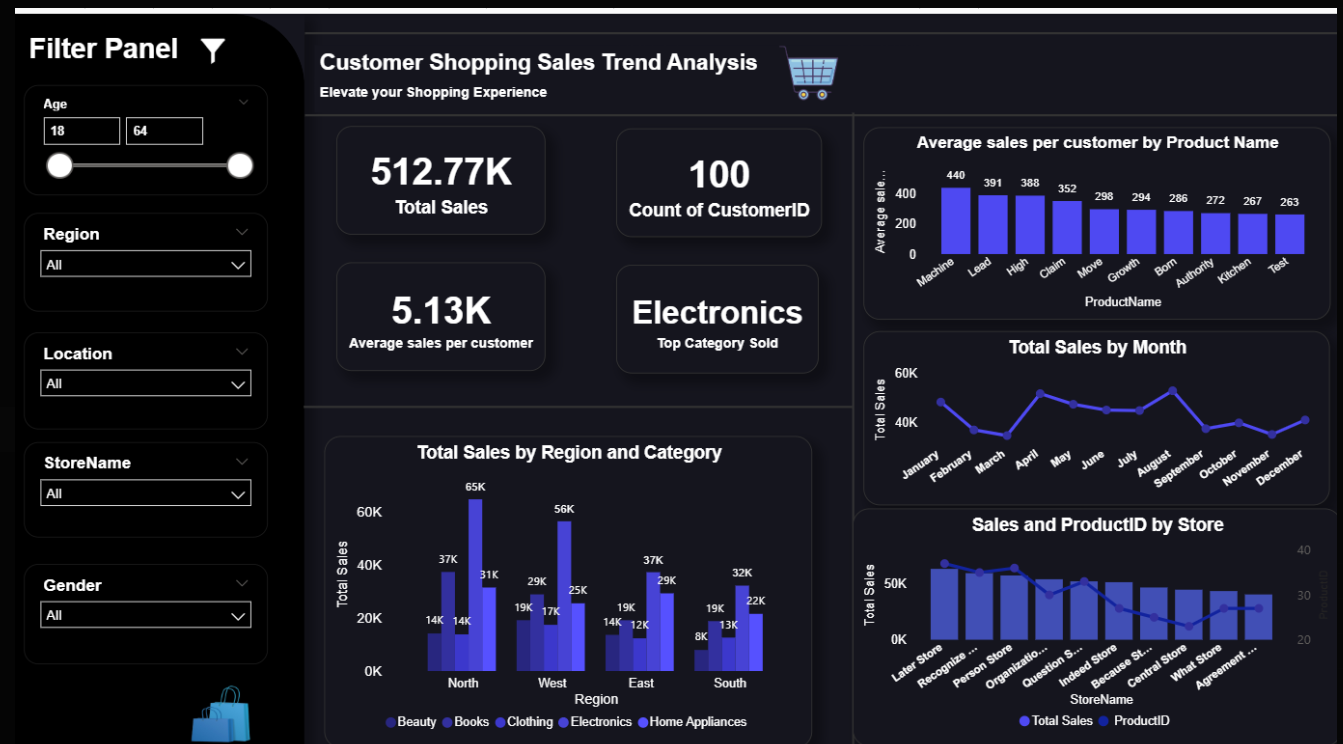

What the dashboard file says about the page in this screenshot:
{"tool":"powerbi","page":{"name":"Customer Shopping Sales Trend Analysis 1","canvas":[1280,720],"ordinal":0},"visuals":[{"type":"shape","box":[0,0,281.1,720],"z":0},{"type":"textbox","box":[10,13.8,208.8,47.5],"z":1000},{"type":"image","box":[166.2,13.8,52.5,47.5],"z":2000},{"type":"shape","box":[281.2,0,998.8,37.5],"z":3000},{"type":"shape","box":[281.2,78.8,998.8,37.5],"z":4000},{"type":"textbox","box":[291,30.8,582.1,47.4],"z":5000},{"type":"textbox","box":[291,60.3,276.9,34.6],"z":6000},{"type":"image","box":[690.3,11.3,160.2,97.8],"z":7000},{"type":"shape","box":[799.5,95,19.8,622.3],"z":8000},{"type":"shape","box":[280.7,360,528.7,36.9],"z":9000},{"type":"clusteredColumnChart","fields":{"Category":["Customers.Region"],"Series":["Products.Category"],"Y":["Sales.Total Sales"]},"box":[300.5,406.8,470.6,300.5],"z":10000},{"type":"columnChart","title":"Average sales per customer by Product Name","fields":{"Category":["Products.ProductName"],"Y":["Sales.Average sales per customer"]},"box":[819.3,109.1,450.8,185.7],"z":11000},{"type":"lineChart","fields":{"Y":["Sales.Total Sales"],"Category":["Sales.SaleDate.Variation.Date Hierarchy.Month"]},"box":[820.1,306.4,449.4,168.1],"z":12000},{"type":"card","fields":{"Values":["Sales.Total Sales"]},"box":[311.7,108.3,201.7,105],"z":13000},{"type":"card","fields":{"Values":["CountNonNull(Customers.CustomerID)"]},"box":[581.7,110,198.3,105],"z":14000},{"type":"card","fields":{"Values":["Sales.Average sales per customer"]},"box":[311.7,240,201.7,105],"z":15000},{"type":"card","fields":{"Values":["Sales.Top Category Sold"]},"box":[581.7,241.7,195,105],"z":16000},{"type":"slicer","fields":{"Values":["Customers.Age"]},"box":[10,68.3,235,106.7],"z":17000},{"type":"slicer","fields":{"Values":["Customers.Region"]},"box":[10,191.7,235,95],"z":18000},{"type":"slicer","fields":{"Values":["Stores.Location"]},"box":[10,306.7,235,93.3],"z":19000},{"type":"slicer","fields":{"Values":["Stores.StoreName"]},"box":[10,413.3,235,91.7],"z":20000},{"type":"slicer","fields":{"Values":["Customers.Gender"]},"box":[10,530,235,96.7],"z":21000},{"type":"image","box":[140,626.7,120,90],"z":22000},{"type":"lineStackedColumnComboChart","title":" Sales and  ProductID by Store","fields":{"Category":["Stores.StoreName"],"Y":["Sales.Total Sales"],"Y2":["CountNonNull(Sales.ProductID)"]},"box":[809.1,476.8,471.2,230],"z":23000}]}

Visuals, with their boxes in screenshot pixels (x1, y1, x2, y2), scaled from the page's 1280x720 canvas onto the 1343x744 screenshot:
shape: select_region(0, 0, 295, 743)
textbox: select_region(10, 14, 230, 63)
image: select_region(174, 14, 229, 63)
shape: select_region(295, 0, 1342, 39)
shape: select_region(295, 81, 1342, 120)
textbox: select_region(305, 32, 916, 81)
textbox: select_region(305, 62, 596, 98)
image: select_region(724, 12, 892, 113)
shape: select_region(839, 98, 860, 741)
shape: select_region(295, 372, 849, 410)
clusteredColumnChart - Customers.Region x Products.Category: select_region(315, 420, 809, 731)
"Average sales per customer by Product Name" columnChart: select_region(860, 113, 1333, 305)
lineChart - Sales.Total Sales x Sales.SaleDate.Variation.Date Hierarchy.Month: select_region(860, 317, 1332, 490)
card - Sales.Total Sales: select_region(327, 112, 539, 220)
card - CountNonNull(Customers.CustomerID): select_region(610, 114, 818, 222)
card - Sales.Average sales per customer: select_region(327, 248, 539, 357)
card - Sales.Top Category Sold: select_region(610, 250, 815, 358)
slicer - Customers.Age: select_region(10, 71, 257, 181)
slicer - Customers.Region: select_region(10, 198, 257, 296)
slicer - Stores.Location: select_region(10, 317, 257, 413)
slicer - Stores.StoreName: select_region(10, 427, 257, 522)
slicer - Customers.Gender: select_region(10, 548, 257, 648)
image: select_region(147, 648, 273, 741)
" Sales and  ProductID by Store" lineStackedColumnComboChart: select_region(849, 493, 1342, 730)
